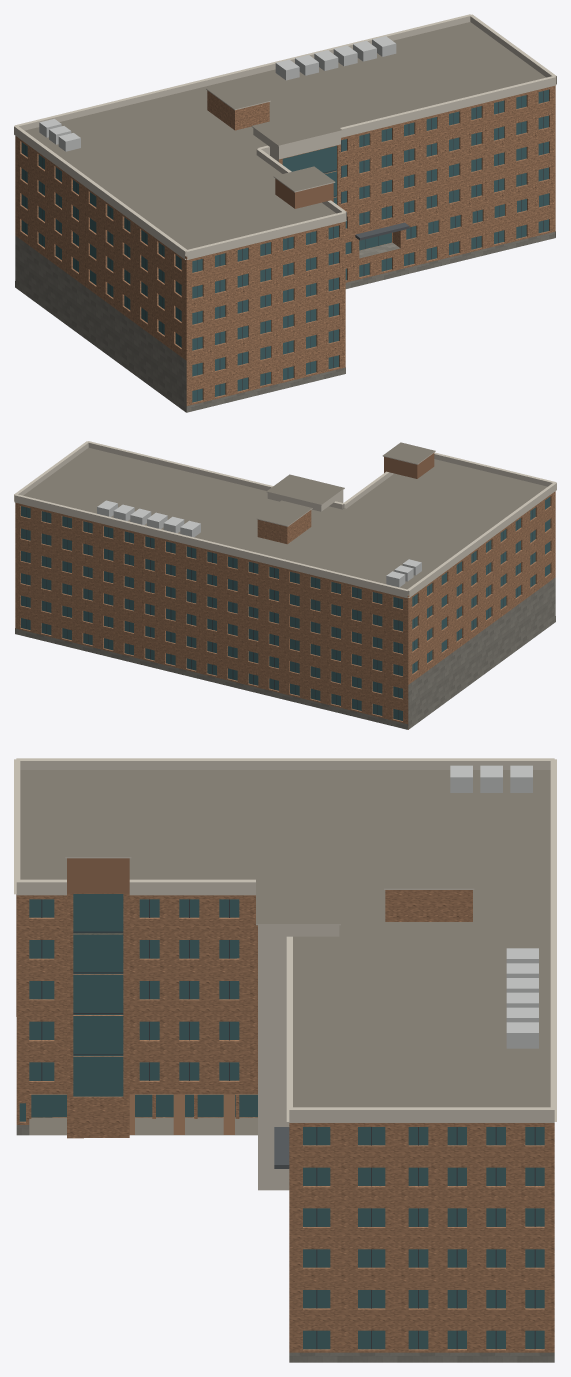
The picture shows the model from 3 angles, top to bottom: view 1: azimuth 30°, elevation 25°; view 2: azimuth 150°, elevation 25°; view 3: azimuth 270°, elevation 25°; orthographic projection. The views are drawn at different scales.
Visible parts, largest first — view 1: humanities__wall, humanities__roof, humanities__glass, humanities__base, humanities__trim, humanities__roofMetal, humanities__frame, humanities__wall2; view 2: humanities__wall, humanities__roof, humanities__glass, humanities__trim, humanities__base, humanities__roofMetal, humanities__frame, humanities__wall2; view 3: humanities__roof, humanities__wall, humanities__glass, humanities__trim, humanities__roofMetal, humanities__base, humanities__wall2, humanities__frame, humanities__column.
Boxes of the visible parts, left/top/right/bottom form: humanities__wall: left=15, top=85, right=555, bottom=405; humanities__roof: left=25, top=22, right=545, bottom=256; humanities__glass: left=21, top=89, right=549, bottom=402; humanities__base: left=15, top=231, right=555, bottom=412; humanities__trim: left=14, top=14, right=556, bottom=259; humanities__roofMetal: left=39, top=36, right=396, bottom=151; humanities__frame: left=25, top=91, right=543, bottom=401; humanities__wall2: left=275, top=178, right=333, bottom=208; humanities__wall: left=15, top=491, right=555, bottom=729; humanities__roof: left=23, top=442, right=547, bottom=595; humanities__glass: left=21, top=497, right=550, bottom=720; humanities__trim: left=14, top=441, right=556, bottom=598; humanities__base: left=15, top=577, right=555, bottom=729; humanities__roofMetal: left=97, top=500, right=421, bottom=587; humanities__frame: left=26, top=507, right=532, bottom=719; humanities__wall2: left=384, top=453, right=434, bottom=478; humanities__roof: left=20, top=770, right=550, bottom=1135; humanities__wall: left=16, top=890, right=554, bottom=1352; humanities__glass: left=19, top=894, right=544, bottom=1349; humanities__trim: left=14, top=758, right=556, bottom=1190; humanities__roofMetal: left=450, top=765, right=538, bottom=1048; humanities__base: left=16, top=1125, right=554, bottom=1362; humanities__wall2: left=67, top=858, right=129, bottom=893; humanities__frame: left=41, top=899, right=535, bottom=1349; humanities__column: left=129, top=1094, right=234, bottom=1134.
Bounding box in the file's own units: 66.61 × 24.92 × 43.45.
11 materials, 2 textured.
